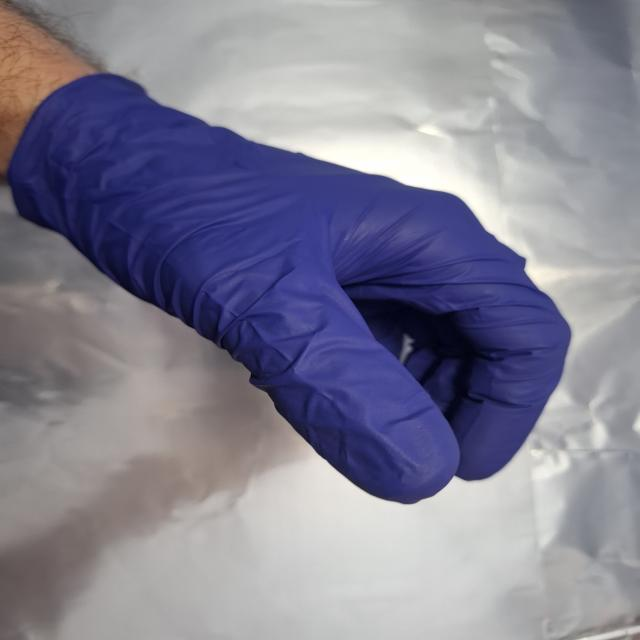glove_on: (8, 71, 575, 507)
